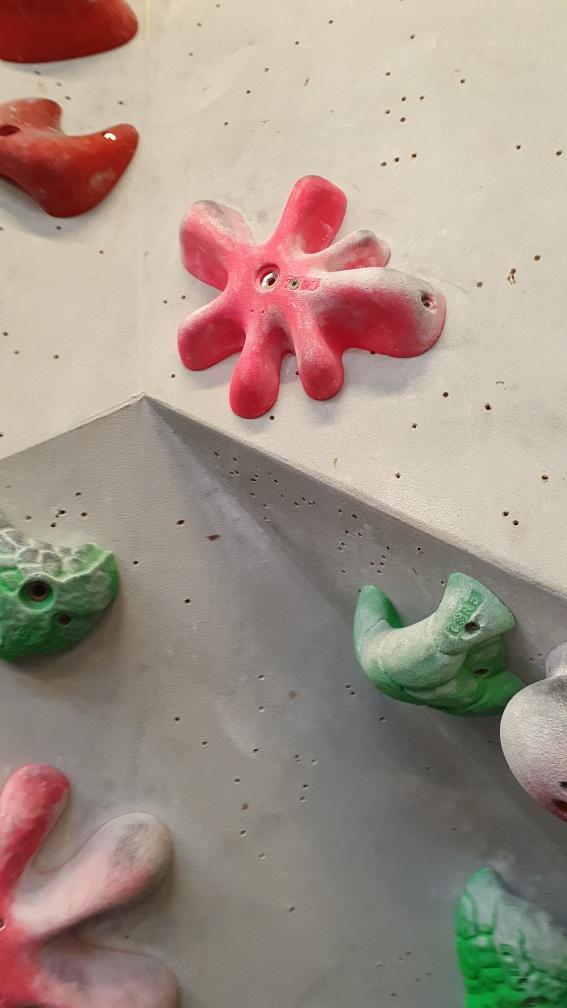Jug: (348, 564, 524, 723), (446, 862, 567, 1006)
Octopus Pinch: (177, 167, 453, 422), (2, 750, 186, 1007)
Sloper: (497, 651, 567, 839)
